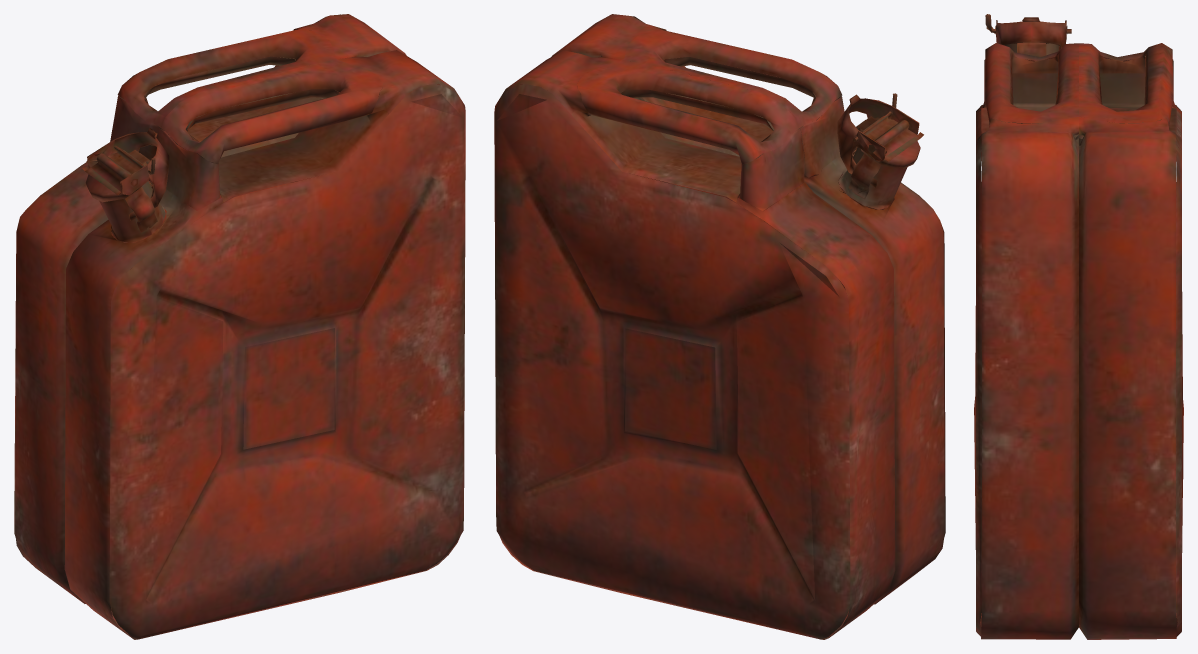
Rendered from metal_jerrycan.glb.
3 views of the same model, side by side, from view 1: azimuth 30°, elevation 25°; view 2: azimuth 150°, elevation 25°; view 3: azimuth 270°, elevation 25° (orthographic). The views are drawn at different scales.
Visible parts, largest first — view 1: metal_jerrycan; view 2: metal_jerrycan; view 3: metal_jerrycan.
Boxes of the visible parts, x1,y1,x2,y2 form: metal_jerrycan: [14, 14, 465, 639]; metal_jerrycan: [494, 14, 945, 639]; metal_jerrycan: [974, 14, 1183, 639].
Size of the model in its own units: 0.3494 by 0.4545 by 0.1723.
1 material, 1 textured.
